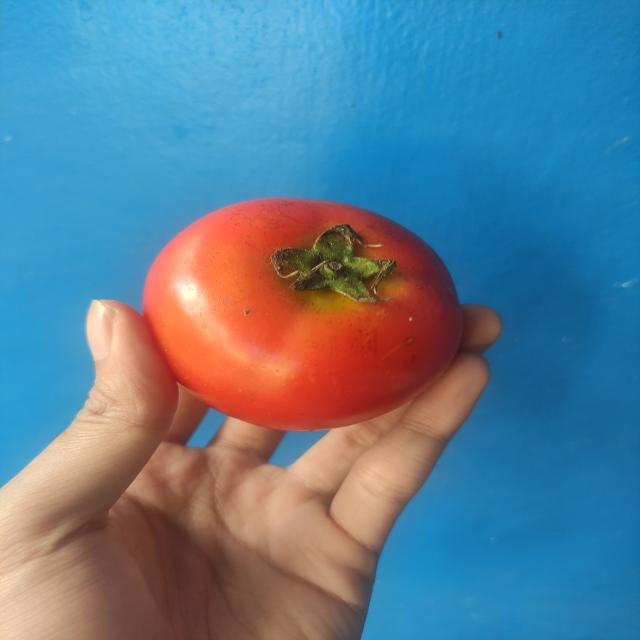ripe tomato: (130, 183, 480, 445)
